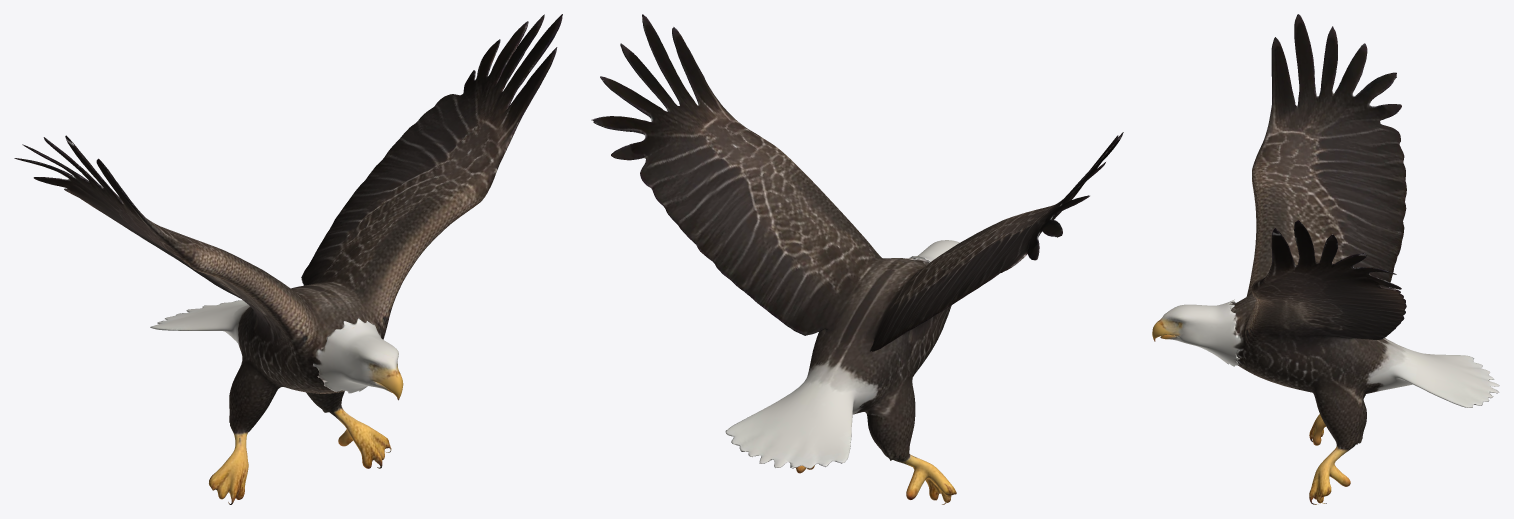
File: eagle_diving.glb
The picture shows the model from 3 angles, left to right: view 1: azimuth 30°, elevation 25°; view 2: azimuth 150°, elevation 25°; view 3: azimuth 270°, elevation 25°; orthographic projection. The views are drawn at different scales.
Visible parts, largest first — view 1: model; view 2: model; view 3: model.
Part boxes in pixels (left/top/right/bottom): model: left=14, top=14, right=562, bottom=504; model: left=591, top=14, right=1123, bottom=504; model: left=1152, top=14, right=1499, bottom=504.
Bounding box in the file's own units: 1.9 × 1.5 × 1.32.
Materials: 1 (1 with a texture image).
